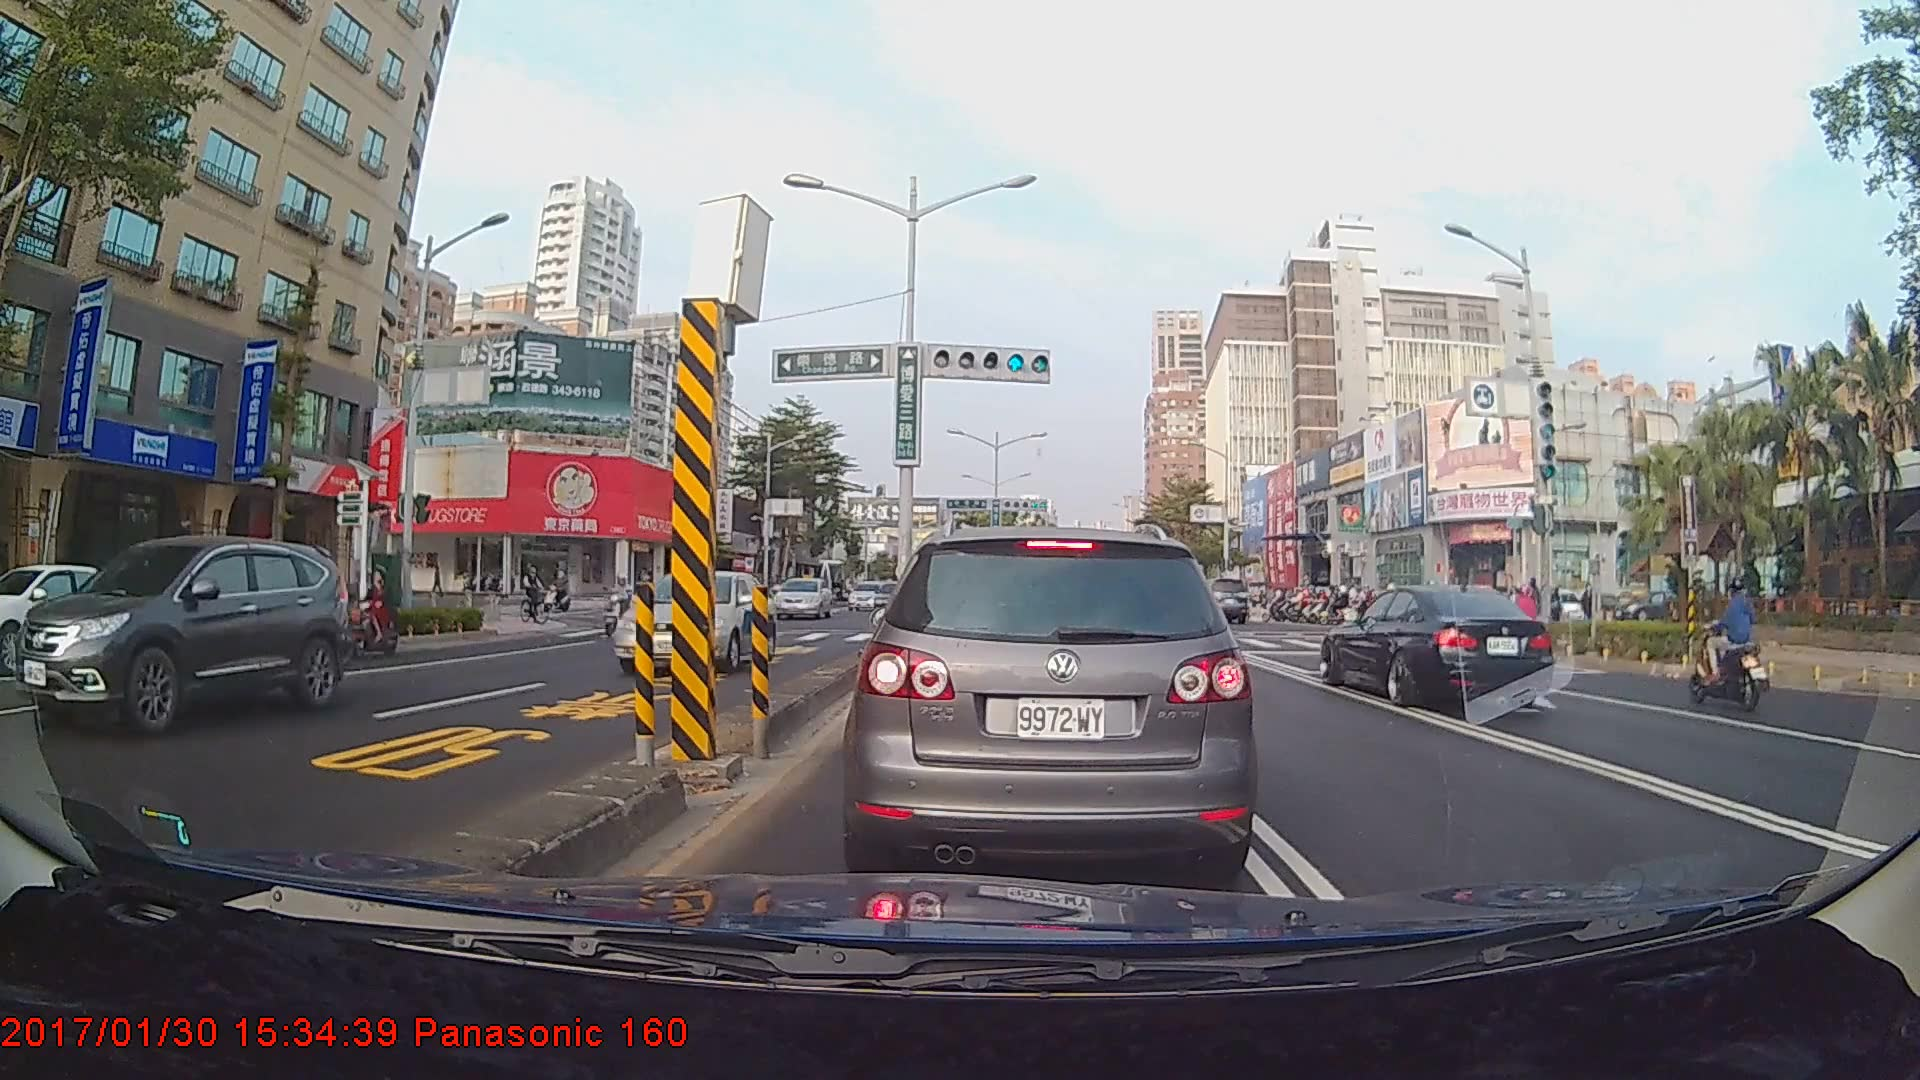rider: (1689, 574, 1777, 713), (336, 563, 407, 660), (518, 559, 561, 629), (603, 572, 638, 640), (542, 570, 575, 614)
vehicle: (854, 524, 1249, 881), (11, 533, 353, 739), (1316, 581, 1554, 707), (609, 568, 777, 674), (0, 561, 157, 671), (771, 576, 834, 619), (1201, 575, 1248, 626)
